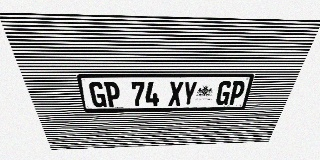4: (145, 81, 159, 106)
7: (130, 82, 145, 107)
G: (88, 82, 107, 107), (215, 81, 233, 105)
P: (228, 81, 247, 105), (104, 82, 121, 107)
X: (168, 81, 184, 106)
Y: (182, 81, 198, 106)
